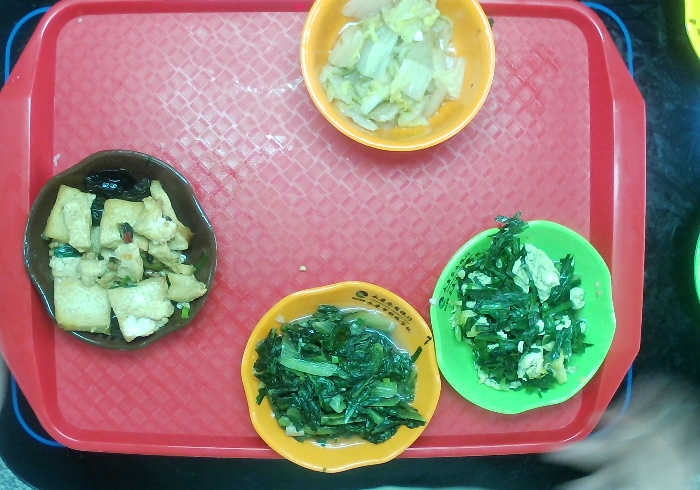YKMZ-Ju_Se_Ao_Bian_Wan: (238, 279, 444, 477)
YKMZ-Ju_Se_Yuan_Wan: (296, 1, 498, 156)
YKMZ-Ka_Fei_Ao_Bian_Wan: (19, 146, 220, 352)
YKMZ-Lv_Se_Ao_Bian_Wan: (425, 216, 619, 416)
